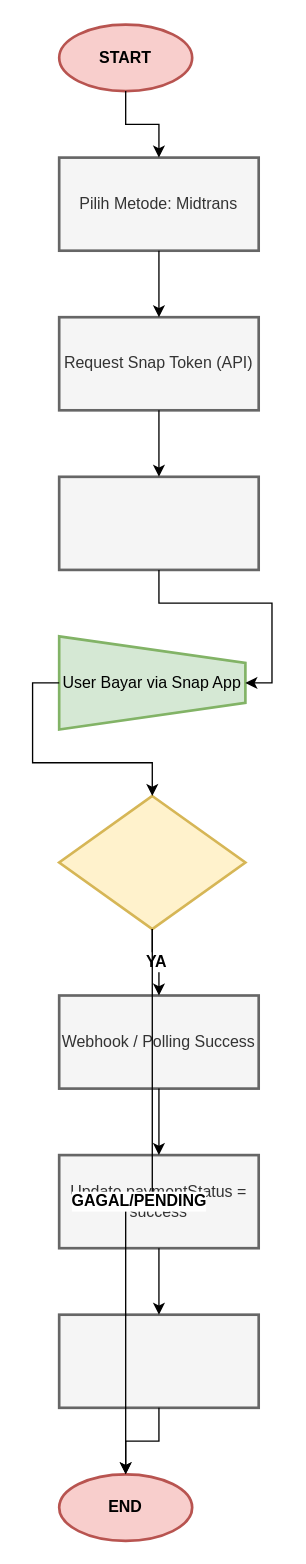
The diagram is 306 pixels wide and 1564 high, and some of its shapes have lost their labels. Each missing label, with the box of its shape:
Launch Payment WebView: (57, 475, 259, 571)
Redirect to Success Page: (57, 1313, 259, 1408)
Status == Settlement?: (57, 794, 246, 930)
